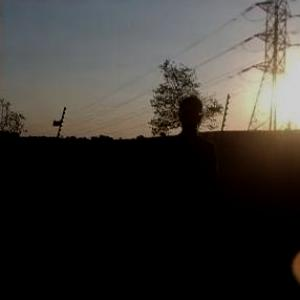follow: (151, 91, 219, 299)
